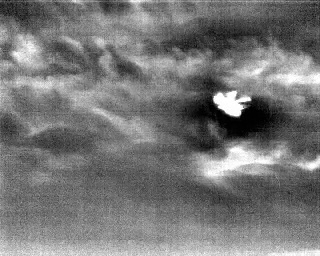HELICOPTER: (211, 84, 255, 122)
